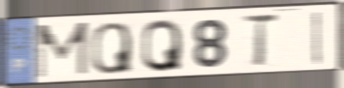8: (192, 18, 230, 69)
I: (312, 10, 323, 67)
M: (34, 20, 90, 81)
Q: (140, 17, 184, 74), (91, 21, 134, 76)
T: (240, 12, 281, 69)
